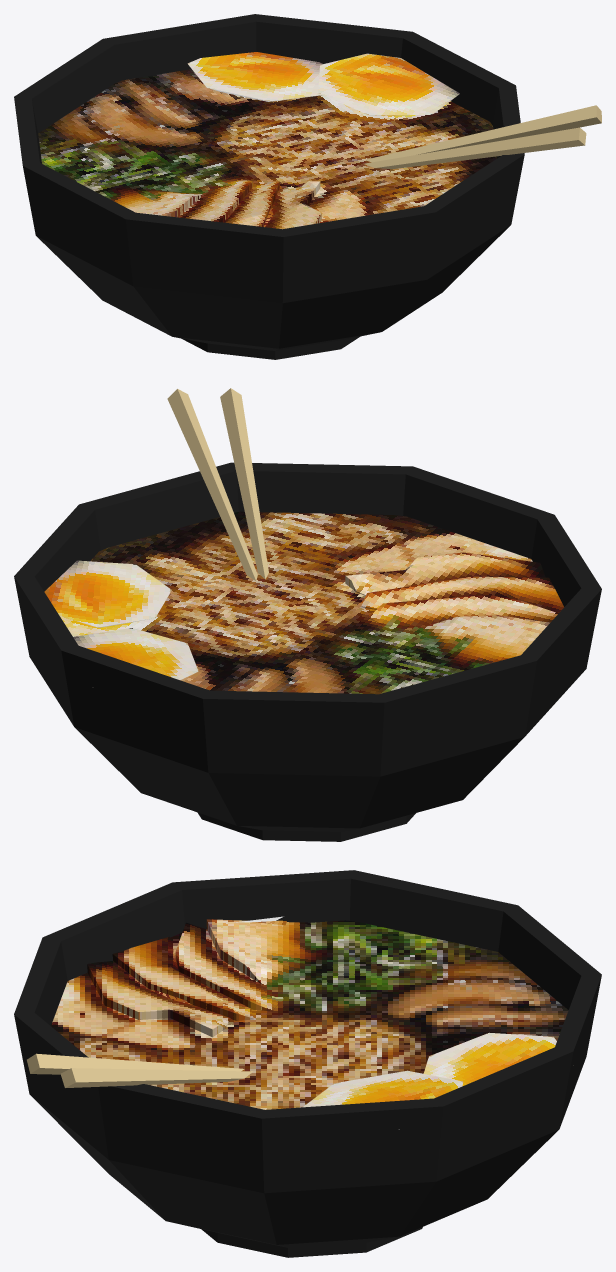
Rendered from ramen_-_ps1_low_poly.glb.
The picture shows the model from 3 angles, top to bottom: view 1: azimuth 30°, elevation 25°; view 2: azimuth 150°, elevation 25°; view 3: azimuth 270°, elevation 25°; orthographic projection. The views are drawn at different scales.
Parts seen in each view (by area): view 1: Cylinder.002; view 2: Cylinder.002; view 3: Cylinder.002.
Part boxes in pixels (x1,y1,x2,y2): Cylinder.002: (14,14,601,359); Cylinder.002: (14,388,601,841); Cylinder.002: (14,870,601,1257).
Size of the model in its own units: 2.15 by 1.04 by 2.14.
Materials: 3 (1 with a texture image).
